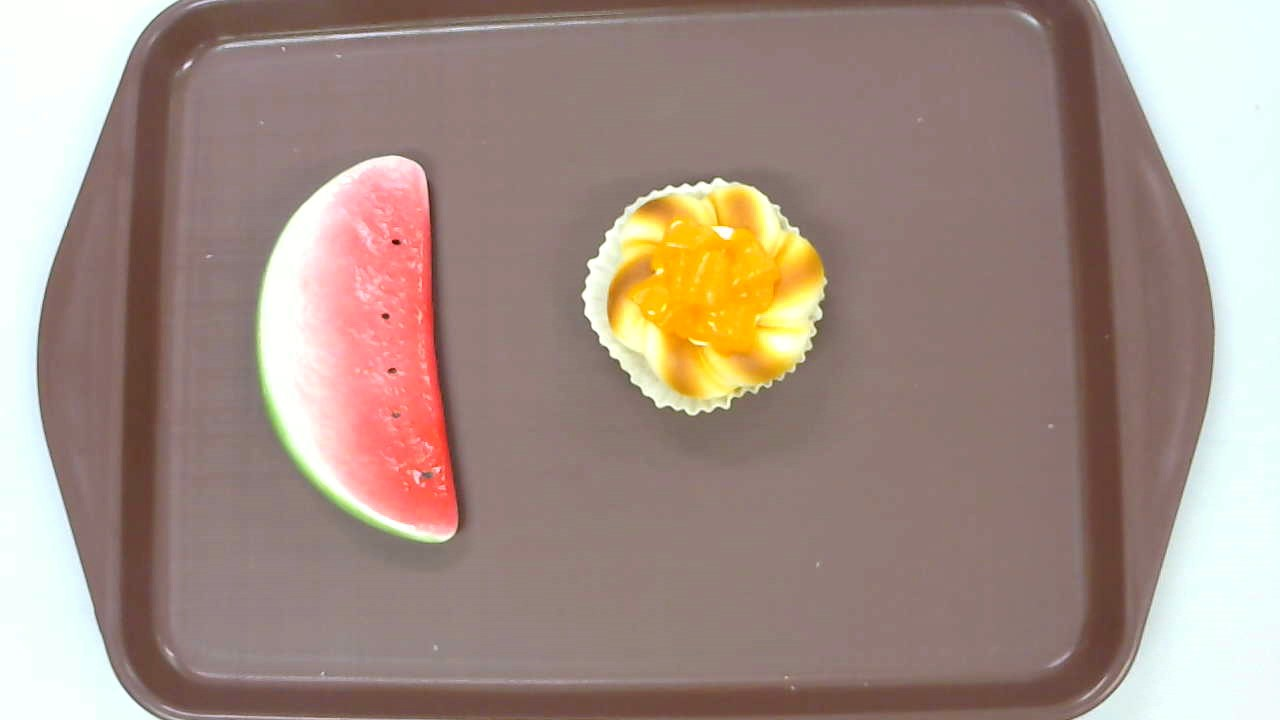mango tart: (580, 178, 827, 416)
water melon: (255, 155, 459, 543)
